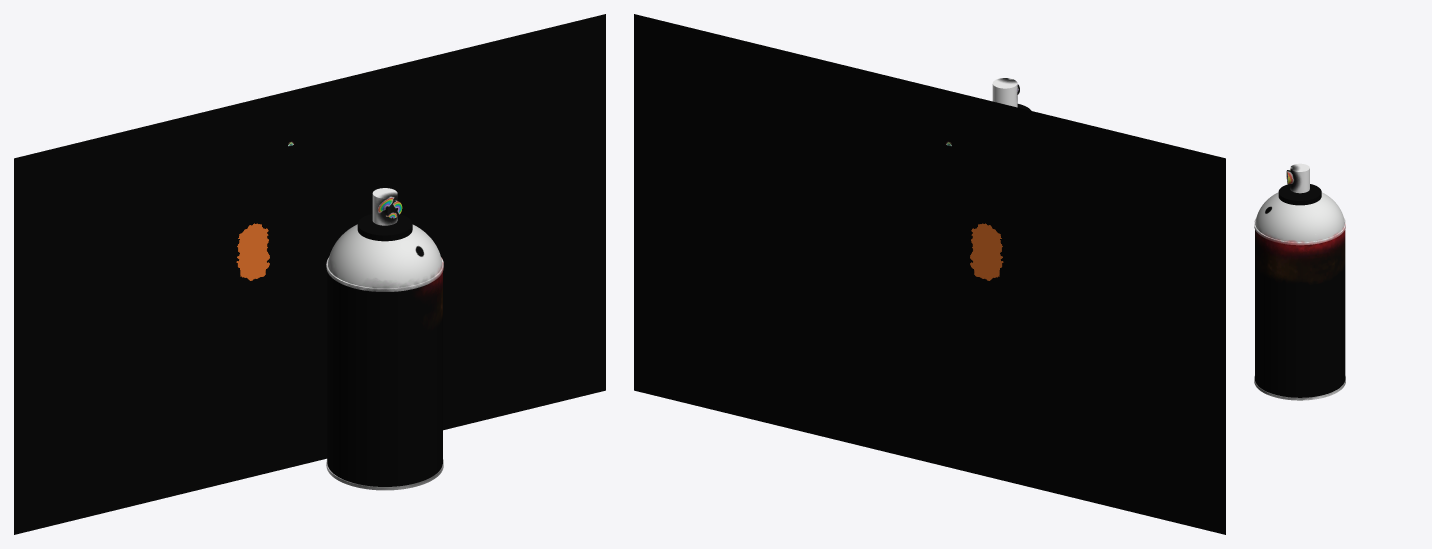
File: spray.fbx
3 views of the same model, side by side, from view 1: azimuth 30°, elevation 25°; view 2: azimuth 150°, elevation 25°; view 3: azimuth 270°, elevation 25° (orthographic). The views are drawn at different scales.
Parts seen in each view (by area): view 1: node_id5, node_id10, node_id14, node_id26, node_id34; view 2: node_id5; view 3: node_id10, node_id14, node_id26, node_id34, node_id18, node_id22.
Part boxes in pixels (<box>): node_id5: <box>14,14,605,534</box>; node_id10: <box>327,272,442,486</box>; node_id14: <box>328,224,442,288</box>; node_id26: <box>357,213,412,241</box>; node_id34: <box>372,188,397,225</box>; node_id5: <box>634,14,1225,534</box>; node_id10: <box>1255,230,1345,397</box>; node_id14: <box>1255,192,1344,242</box>; node_id26: <box>1278,184,1321,205</box>; node_id34: <box>1290,163,1309,193</box>; node_id18: <box>1254,218,1345,245</box>; node_id22: <box>1254,376,1345,400</box>.
Size of the model in its own units: 0.512 by 0.3114 by 0.1566.
Materials: 9 (9 with a texture image).
